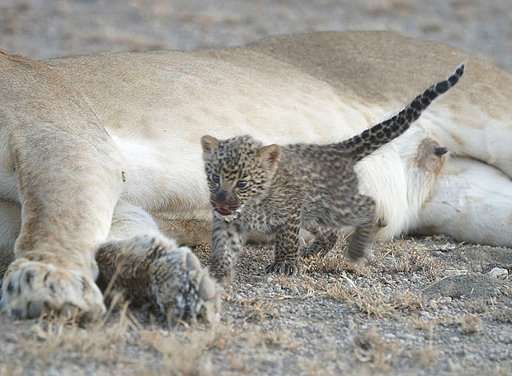Cheetah: (197, 131, 389, 279), (90, 231, 223, 327)
lion: (1, 38, 512, 309)
